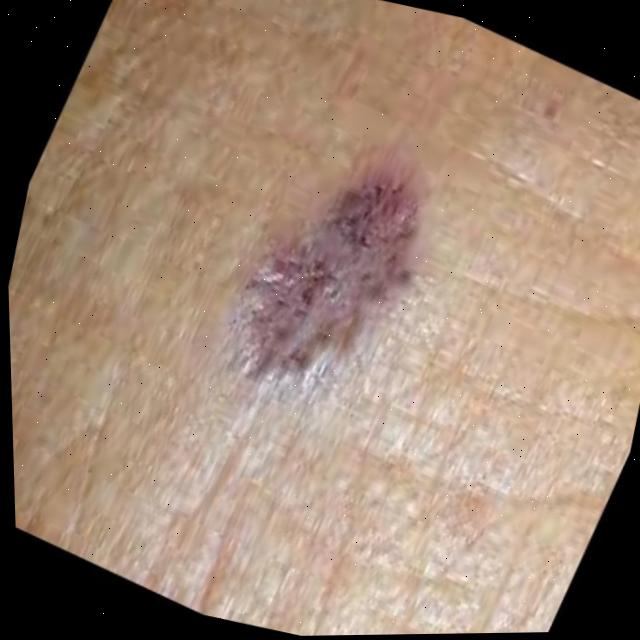Eczema: (202, 126, 446, 409)
